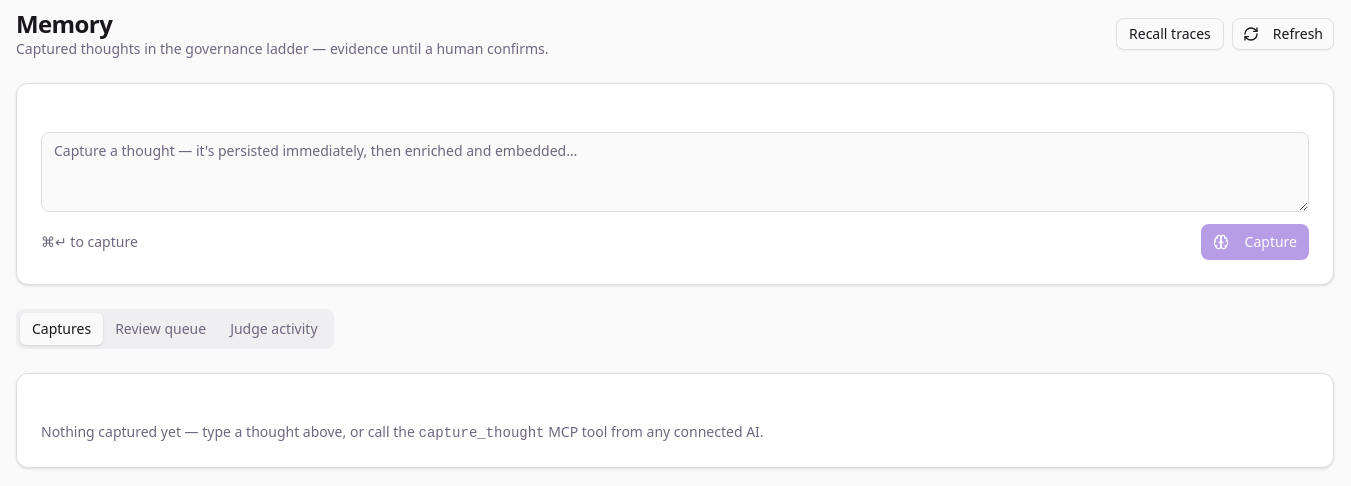
shows an empty state without events
Step 1. Click the tab "Judge activity" → [274, 329], box [218,313,330,345]
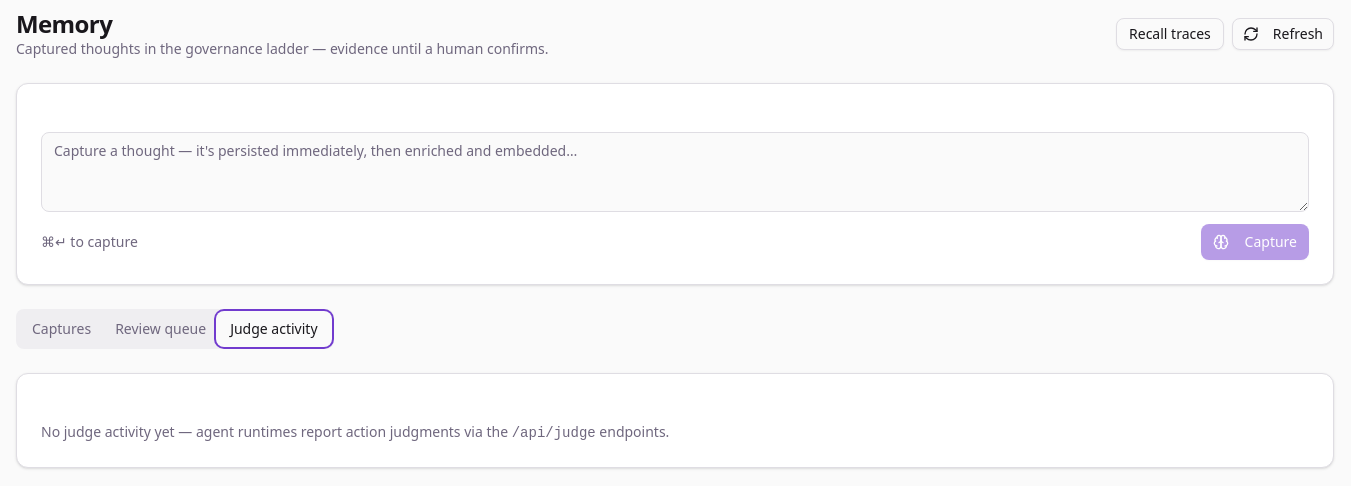
Now the text "No judge activity" is shown, box [41,422,512,441]
